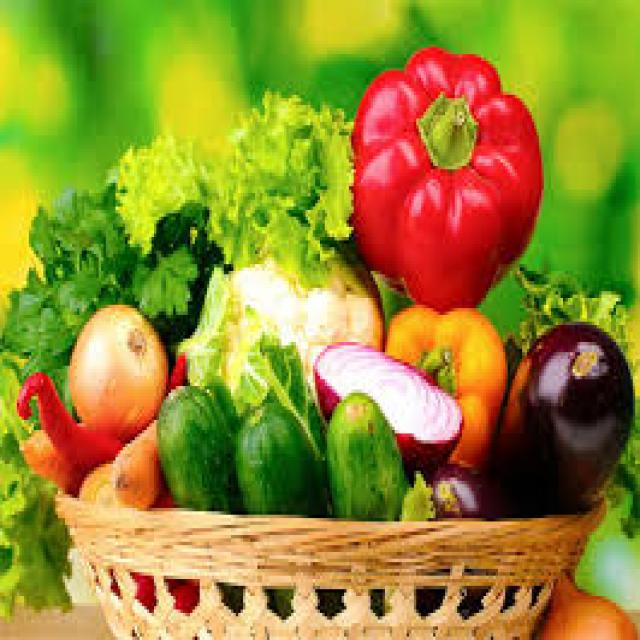organic waste: (0, 172, 123, 610), (349, 41, 541, 308), (113, 88, 354, 288), (500, 257, 638, 542), (173, 254, 325, 464), (498, 318, 633, 508), (385, 298, 503, 464), (14, 349, 183, 464), (313, 339, 462, 467), (118, 187, 224, 346), (65, 305, 166, 433), (154, 383, 243, 511), (322, 389, 407, 515), (234, 393, 322, 511), (532, 566, 638, 636), (108, 413, 161, 505), (106, 410, 156, 501), (424, 454, 498, 511), (17, 427, 82, 484), (397, 468, 431, 512), (75, 454, 108, 494)
